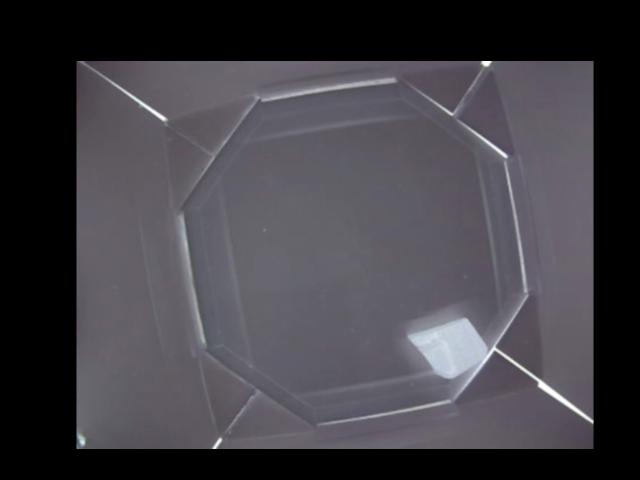China: (406, 313, 486, 381)
